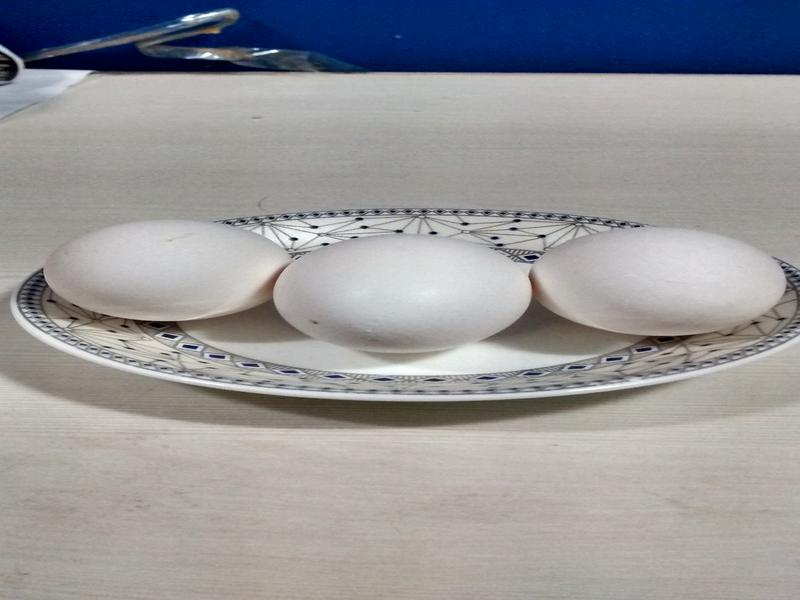egg: (526, 228, 787, 334)
